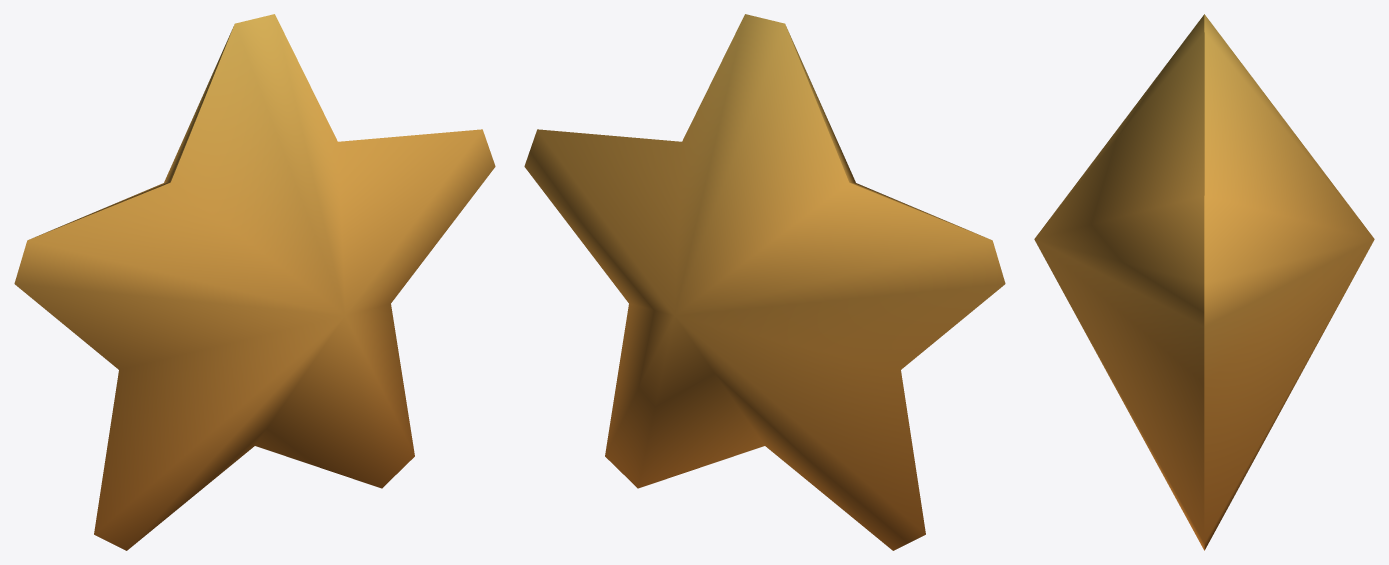
File: estrela.glb
3 renders of one model, left to right at view 1: azimuth 30°, elevation 25°; view 2: azimuth 150°, elevation 25°; view 3: azimuth 270°, elevation 25°, orthographic. The views are drawn at different scales.
Visible parts, largest first — view 1: modelo; view 2: modelo; view 3: modelo.
Boxes of the visible parts, <box> form: modelo: <box>14,14,495,550</box>; modelo: <box>524,14,1005,550</box>; modelo: <box>1034,14,1374,550</box>.
Bounding box in the file's own units: 1.4 × 1.39 × 0.915.
